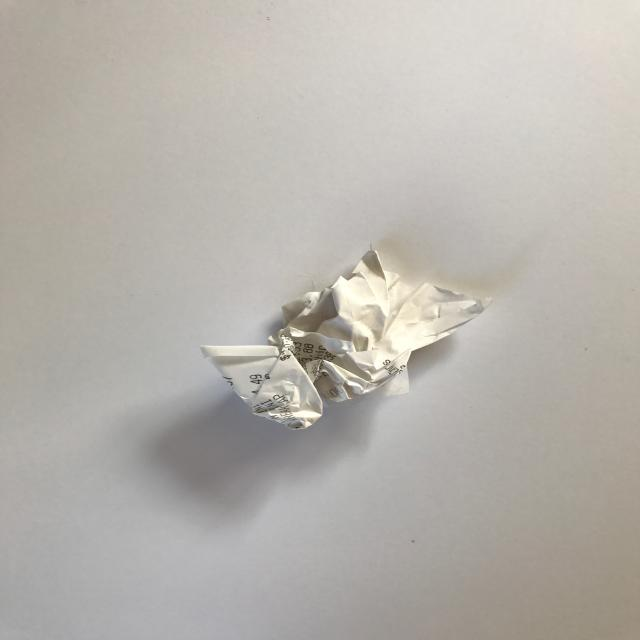paper: (139, 212, 518, 469)
